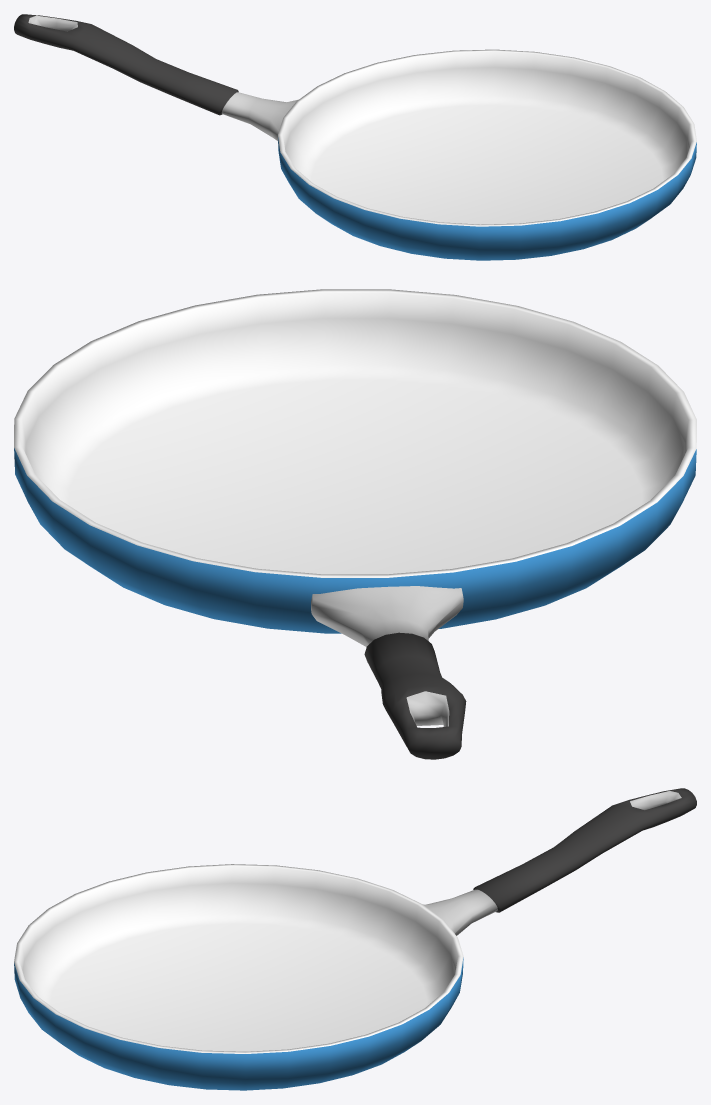
File: FryingPan.fbx
The picture shows the model from 3 angles, top to bottom: view 1: azimuth 30°, elevation 25°; view 2: azimuth 150°, elevation 25°; view 3: azimuth 270°, elevation 25°; orthographic projection. The views are drawn at different scales.
Parts seen in each view (by area): view 1: Cylinder; view 2: Cylinder; view 3: Cylinder.
Part boxes in pixels (x1,y1,x2,y2): Cylinder: [14, 14, 696, 260]; Cylinder: [14, 289, 696, 759]; Cylinder: [14, 788, 696, 1090].
Size of the model in its own units: 89.61 by 15.91 by 110.
